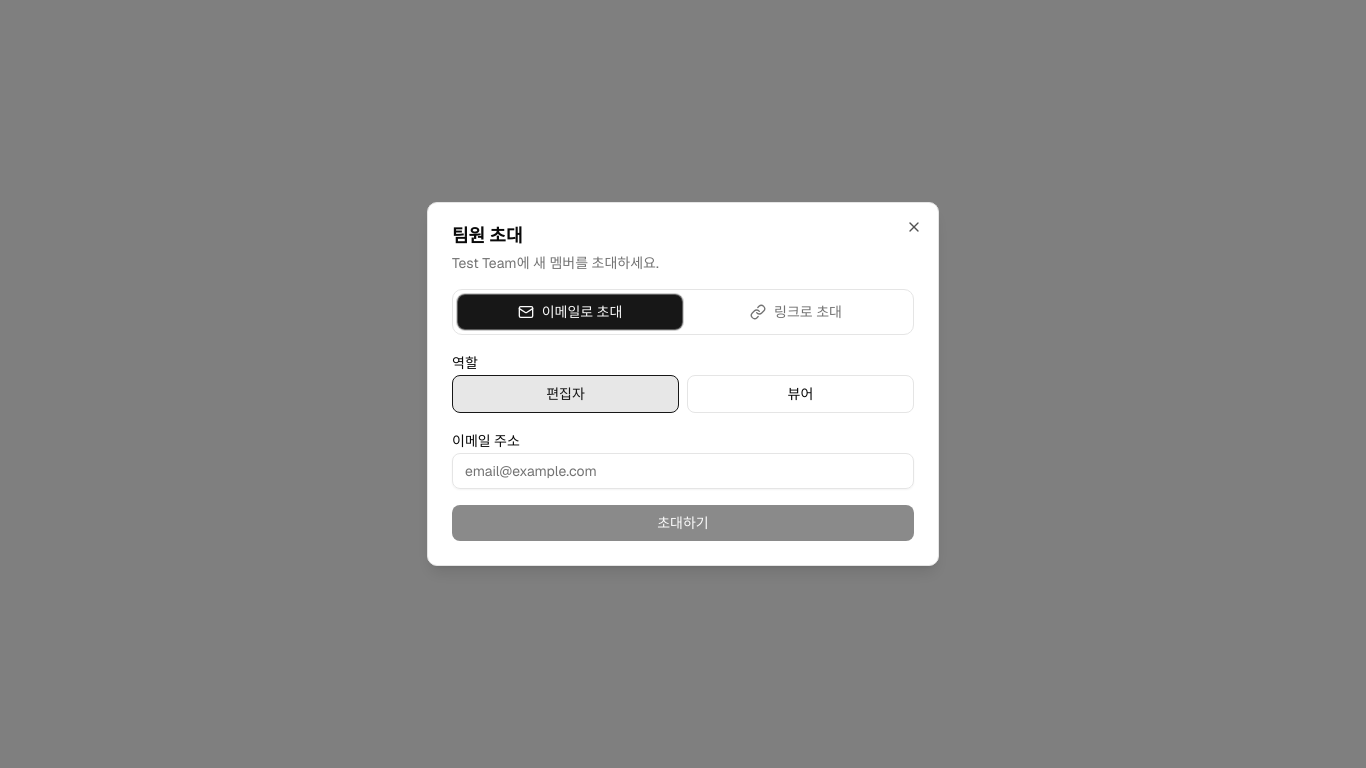
InviteDialog › shows success message after email invite
The image size is (1366, 768).
Type "test@example.com" into the field with placeholder "email@example.com" at (683, 471), box [452,453,914,489]
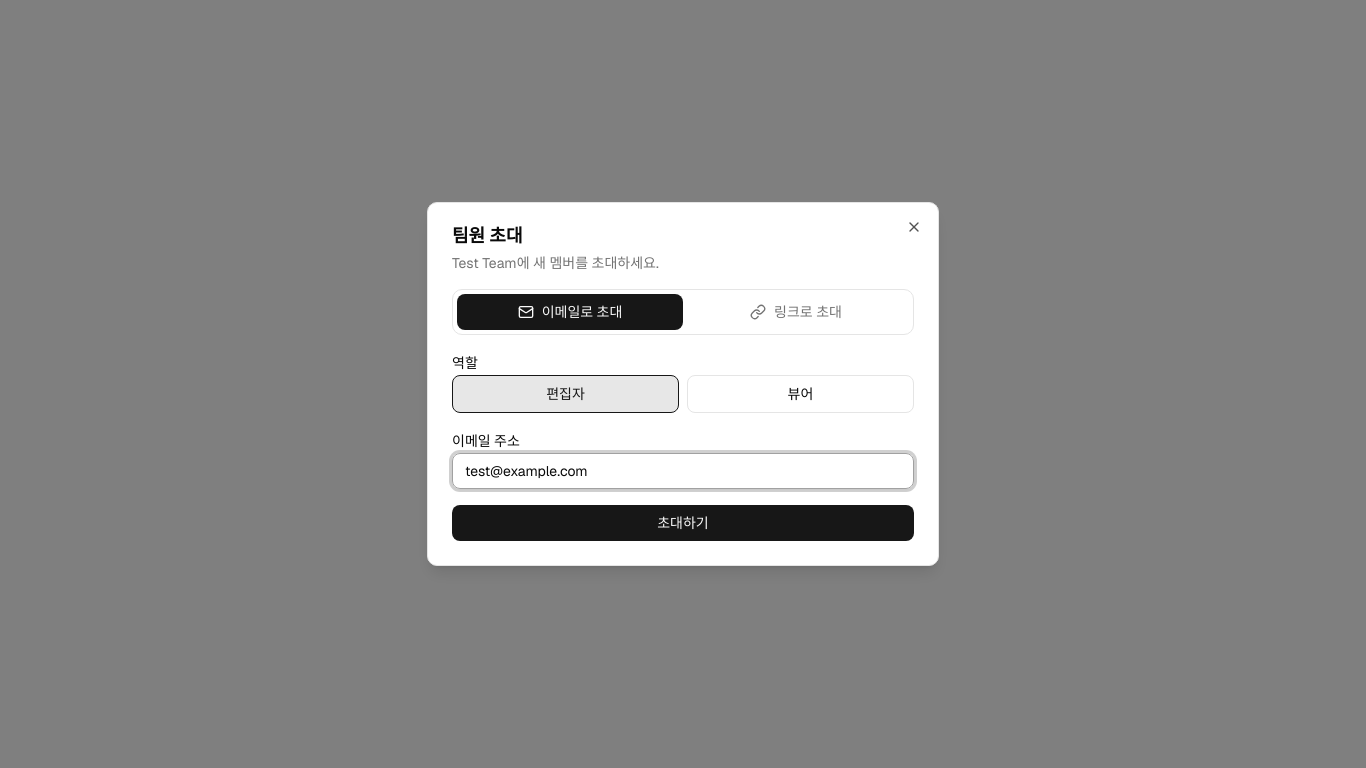
Click the button "초대하기" at (683, 523), box [452,505,914,541]
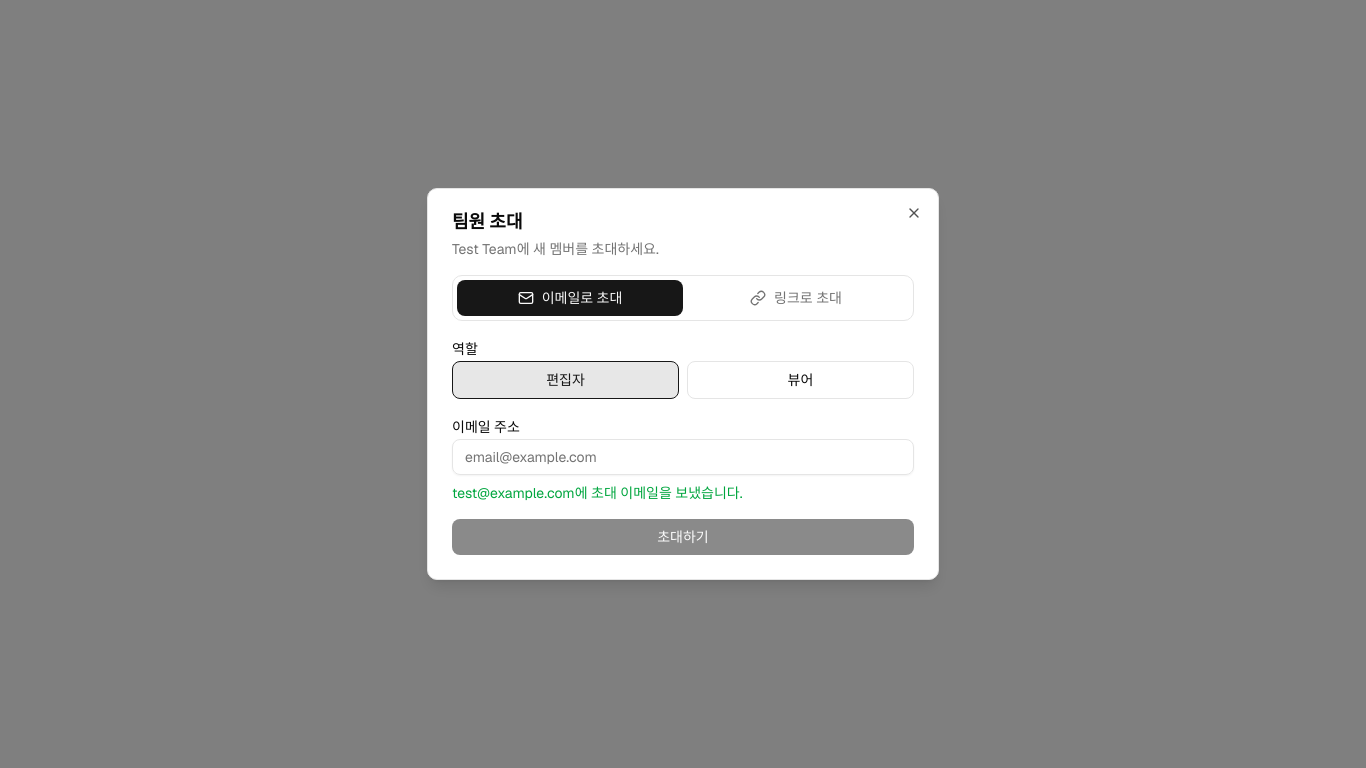
Result: the text "test@example.com에 초대 이메일을 보냈습니다." is shown at [452,484,742,502]
